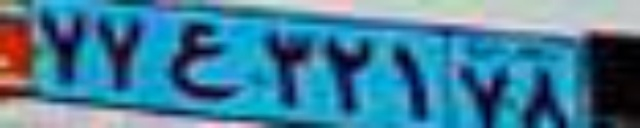1: (389, 45, 431, 120)
2: (323, 35, 377, 114)
3: (262, 32, 311, 108)
7: (95, 13, 144, 89), (39, 11, 88, 84), (459, 63, 511, 126)
8: (516, 68, 570, 127)
ain: (162, 21, 242, 100)
